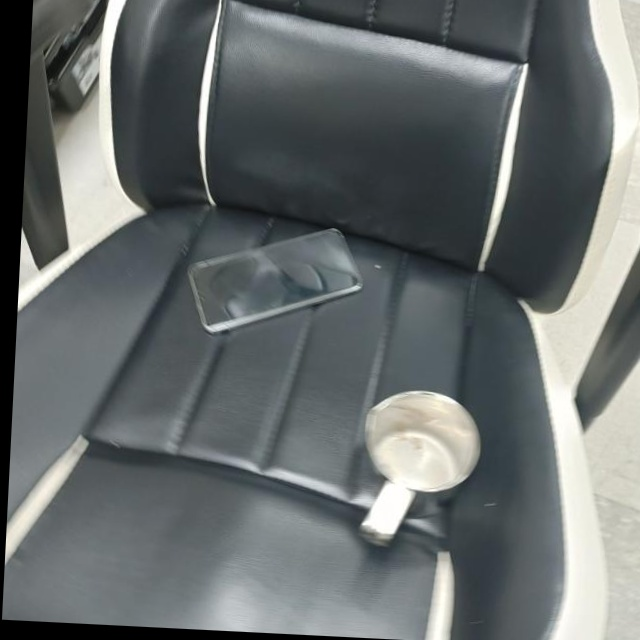cup: (357, 385, 485, 558)
phone: (184, 219, 367, 341)
